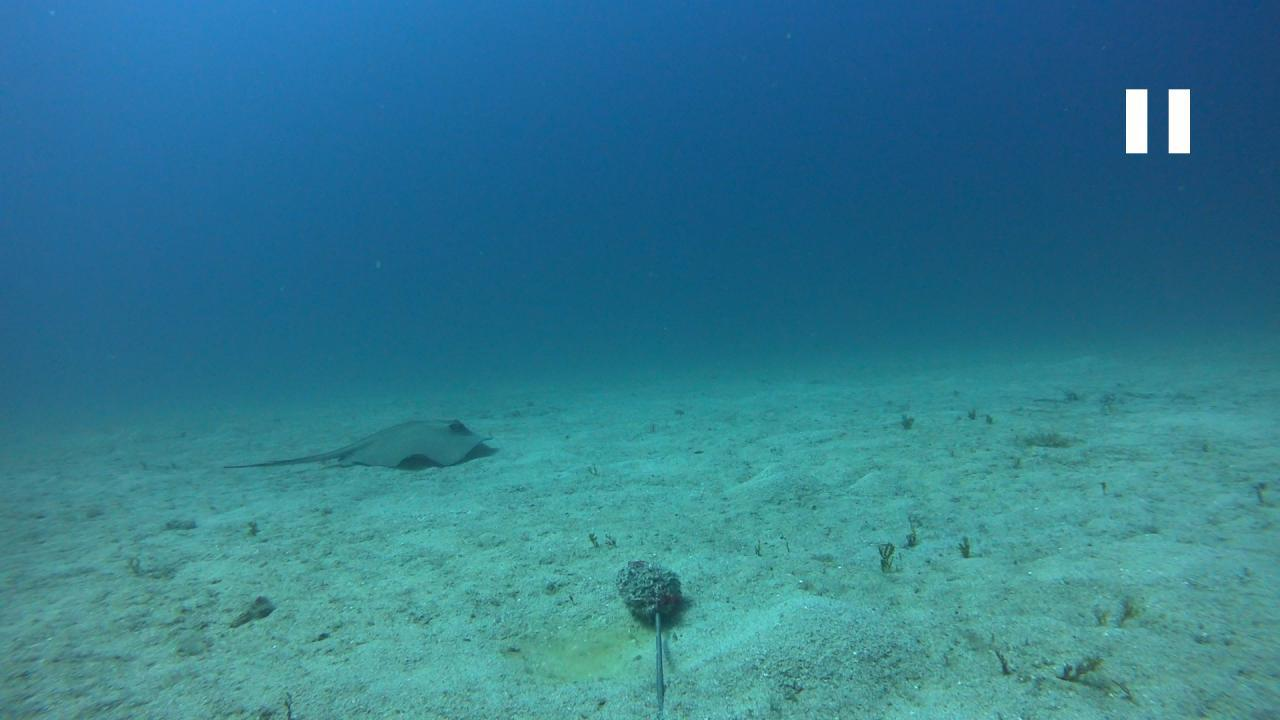dasyatis: (218, 418, 493, 468)
